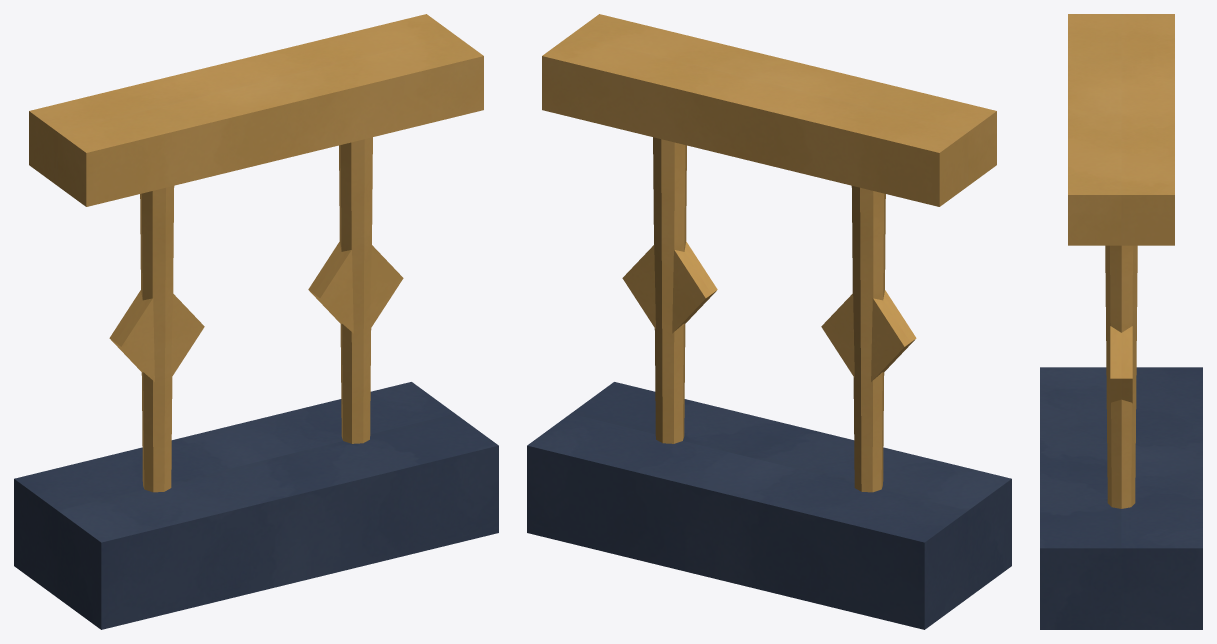
File: SM_Theater_Rail_Gallery1.fbx
3 views of the same model, side by side, from view 1: azimuth 30°, elevation 25°; view 2: azimuth 150°, elevation 25°; view 3: azimuth 270°, elevation 25° (orthographic). The views are drawn at different scales.
Visible parts, largest first — view 1: SM_Theater_Rail_Gallery1_LOD0; view 2: SM_Theater_Rail_Gallery1_LOD0; view 3: SM_Theater_Rail_Gallery1_LOD0.
Boxes of the visible parts, box(x1,y1,x2,y2) form: SM_Theater_Rail_Gallery1_LOD0: box(14, 14, 498, 629); SM_Theater_Rail_Gallery1_LOD0: box(527, 14, 1011, 629); SM_Theater_Rail_Gallery1_LOD0: box(1040, 14, 1202, 629).
Size of what is drawn, in the model's own units: 1 by 1.12 by 0.38.
